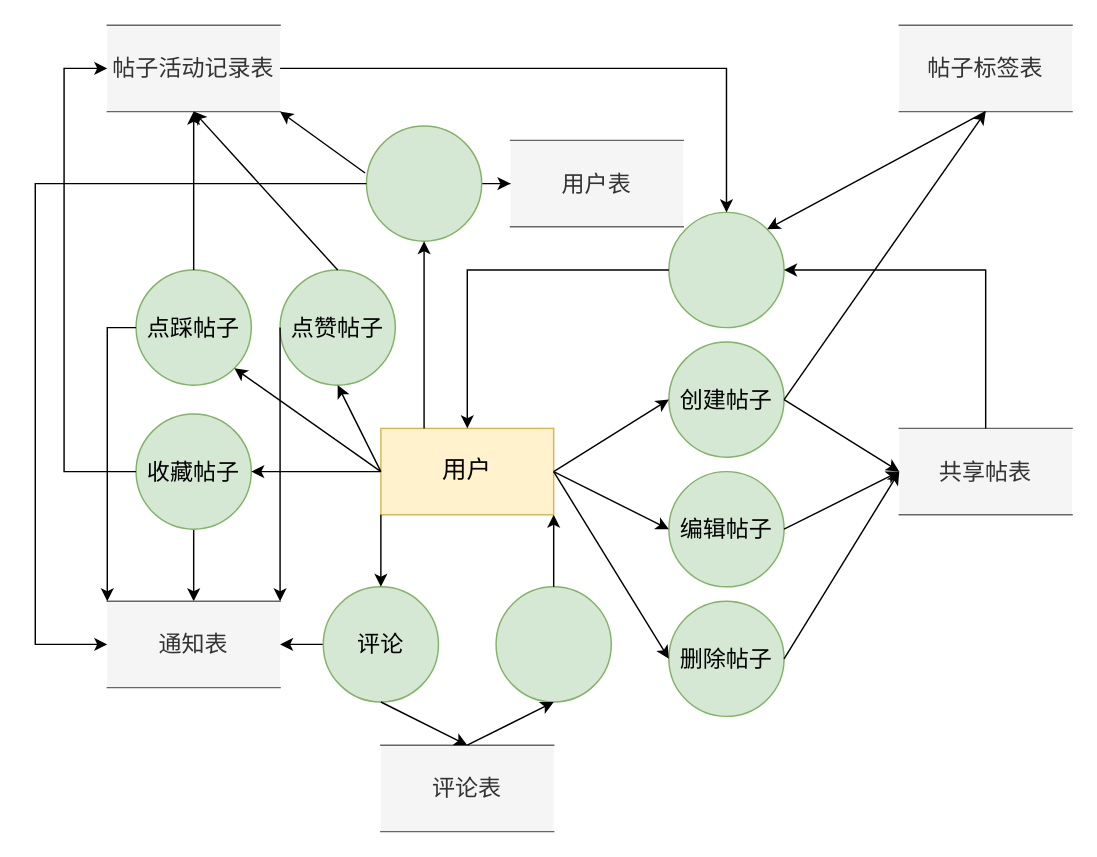
Image size: 1097x857. Some labels were removed from this diagram. Here are the shapes that lost their labels. From the top down, the centre of each, then its label:
(423,183): 支付菜币
(725,269): 获取帖子
(553,643): 获取评论
